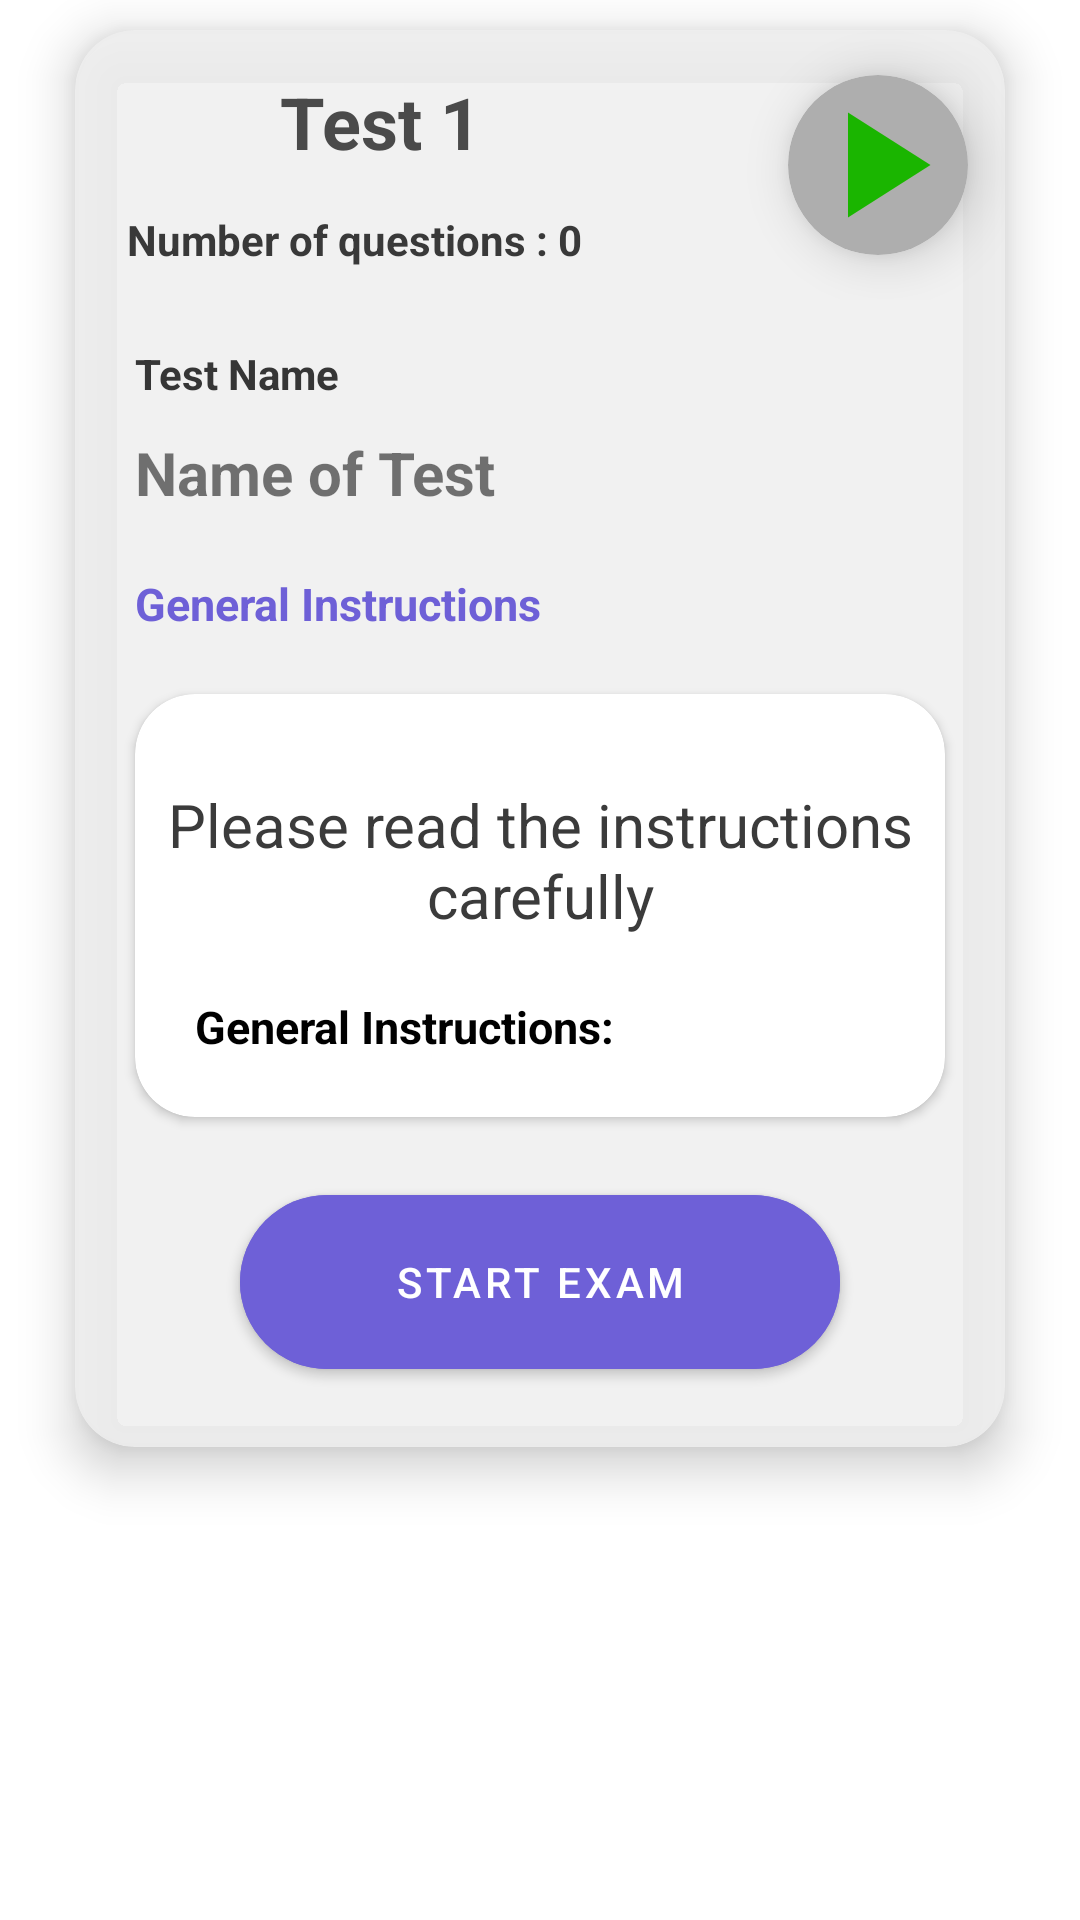

Icon bounding boxes for this 1080px×1920px phone screenshot, format (x1, y1, x2, y2):
play arrow: (788, 75, 968, 255)
